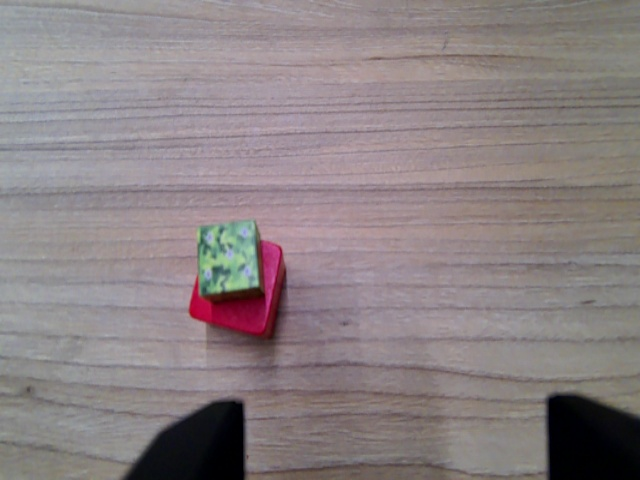grass: (192, 220, 267, 296)
